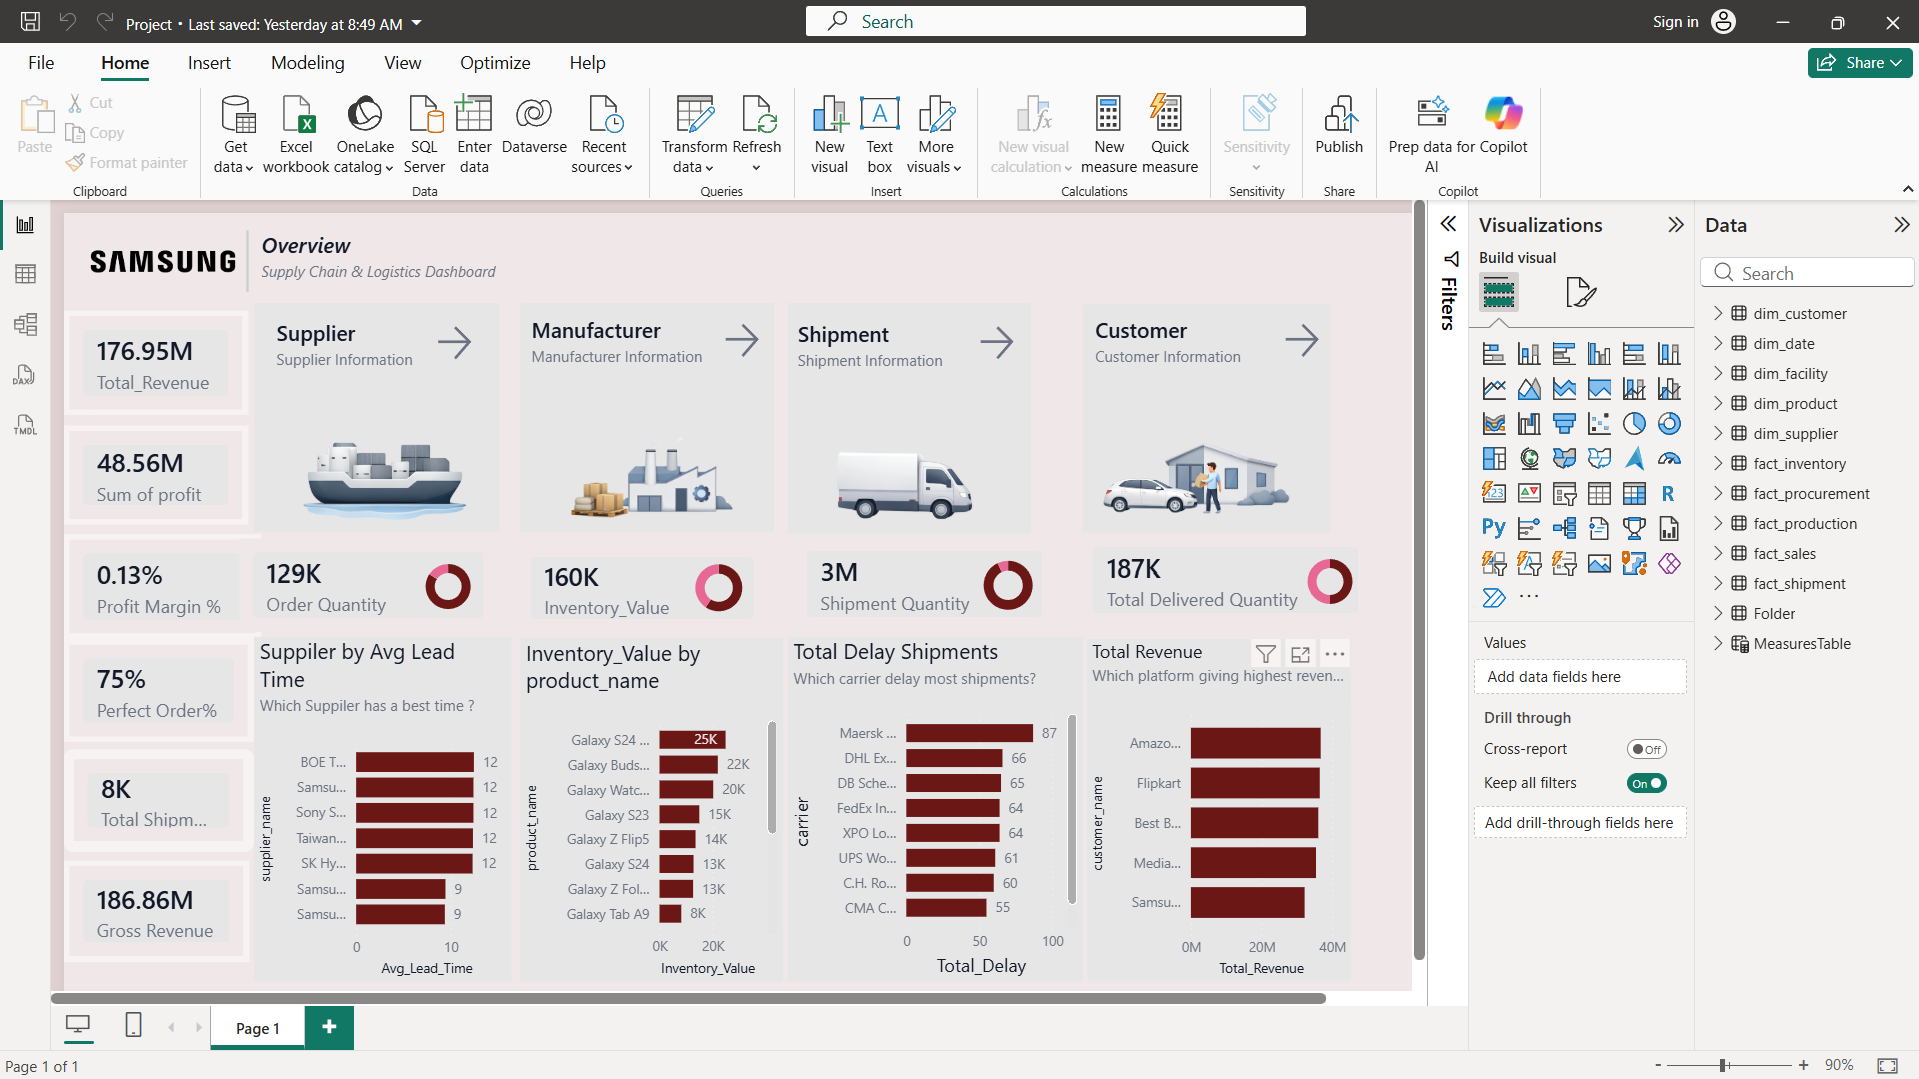

Layout of this report page (visuals, bound fields, positions):
{"tool":"powerbi","page":{"name":"Page 1","canvas":[1280,720],"ordinal":0},"visuals":[{"type":"shape","box":[168.6,80.2,218.6,203.5],"z":0},{"type":"shape","box":[643,80.2,216.3,204.7],"z":1000},{"type":"shape","box":[905.8,81.4,219.8,203.5],"z":2000},{"type":"shape","box":[405.6,80,225.6,203.3],"z":3000},{"type":"image","box":[415.1,180.2,203.5,103.5],"z":4000},{"type":"image","box":[196.5,180.2,169.8,100],"z":5000},{"type":"image","box":[643,193,203.5,87.2],"z":6000},{"type":"image","box":[916.3,168.6,188.4,129.1],"z":7000},{"type":"actionButton","box":[326.7,95.3,41.2,39.8],"z":8000},{"type":"actionButton","box":[582.2,93.3,49.4,39.8],"z":9000},{"type":"actionButton","box":[809.3,95.3,59.3,39.5],"z":10000},{"type":"actionButton","box":[1080.2,93,49.4,39.8],"z":11000},{"type":"shape","title":"Supplier ","box":[188.4,93,158.1,54.7],"z":12000},{"type":"shape","title":"Manufacturer ","box":[415.1,90.7,167.4,57],"z":13000},{"type":"shape","title":"Shipment ","box":[652.3,94.2,176.7,53.5],"z":14000},{"type":"shape","title":"Customer","box":[916.3,90.7,152.3,69.8],"z":15000},{"type":"shape","title":"Overview","box":[175.6,15.1,211.6,54.7],"z":16000},{"type":"shape","box":[130.2,15.1,66.3,54.7],"z":17000},{"type":"image","box":[12.8,15.1,143,54.7],"z":18000},{"type":"cardVisual","fields":{"Data":["MeasuresTable.Total_Revenue"]},"box":[0,86.7,164,93],"z":19000},{"type":"cardVisual","fields":{"Data":["MeasuresTable.Profit Margin %"]},"box":[0,285.6,175.6,93.3],"z":20000},{"type":"cardVisual","fields":{"Data":["Sum(fact_sales.profit)"]},"box":[0,188.9,164,88.4],"z":21000},{"type":"shape","box":[168.6,297.7,205.8,64],"z":22000},{"type":"shape","box":[409.3,295.3,205.8,64],"z":23000},{"type":"shape","box":[653.5,296.5,205.8,64],"z":24000},{"type":"shape","box":[923.3,296.5,205.8,64],"z":25000},{"type":"cardVisual","fields":{"Data":["Sum(fact_procurement.order_quantity)"]},"box":[151.1,284.4,239.5,93],"z":26000},{"type":"clusteredBarChart","title":"Suppiler by Avg Lead Time","fields":{"Y":["MeasuresTable.Avg_Lead_Time"],"Category":["dim_supplier.supplier_name"]},"box":[168.9,376.7,228.9,306.7],"z":27000},{"type":"clusteredBarChart","fields":{"Y":["MeasuresTable.Inventory_Value"],"Category":["dim_product.product_name"]},"box":[405.6,377.8,233.3,305.6],"z":28000},{"type":"clusteredBarChart","title":"Total Delay Shipments","fields":{"Y":["MeasuresTable.Total_Delay"],"Category":["fact_shipment.carrier"]},"box":[643.3,376.7,262.2,306.7],"z":29000},{"type":"clusteredBarChart","title":"Total Revenue","fields":{"Category":["dim_customer.customer_name"],"Y":["MeasuresTable.Total_Revenue"]},"box":[908.9,377.8,235.6,305.6],"z":30000},{"type":"cardVisual","fields":{"Data":["MeasuresTable.Perfect_Order %"]},"box":[0,378.9,168.9,91.1],"z":31000},{"type":"cardVisual","fields":{"Data":["MeasuresTable.Total_Shipment"]},"box":[0,476.7,168.9,91.1],"z":32000},{"type":"cardVisual","fields":{"Data":["Sum(fact_sales.gross_revenue)"]},"box":[0,575.6,164.4,90],"z":33000},{"type":"cardVisual","fields":{"Data":["MeasuresTable.Inventory_Value"]},"box":[397.7,288.4,233.7,89.5],"z":34000},{"type":"cardVisual","fields":{"Data":["Sum(fact_shipment.quantity)"]},"box":[643.3,283.3,243.3,93.3],"z":35000},{"type":"cardVisual","fields":{"Data":["MeasuresTable.Total_Sales_Quantity"]},"box":[897.8,280,270,93.3],"z":36000},{"type":"donutChart","fields":{"Y":["Sum(fact_procurement.order_quantity)","MeasuresTable.Safety_Stock"]},"box":[545.6,302.2,73.3,62.2],"z":37000},{"type":"donutChart","fields":{"Y":["MeasuresTable.Total_Shipment","MeasuresTable.Total_Delay"]},"box":[804.4,298.9,70,64.4],"z":38000},{"type":"donutChart","fields":{"Y":["MeasuresTable.Total_Sales_Quantity","MeasuresTable.Total_QTY_Delay"]},"box":[1095.6,297.8,60,60],"z":39000},{"type":"donutChart","fields":{"Y":["Sum(fact_procurement.order_quantity)","MeasuresTable.Defect_Rate"]},"box":[308.9,302.2,65.6,60],"z":40000}]}

Visuals, with their boxes on the page's 1280x720 design canvas (x1, y1, x2, y2). These are canvas units, not pixel positions in the 1919x1079 screenshot, which may show the page scaled, cropped or inside an application window:
shape: 169:80:387:284
shape: 643:80:859:285
shape: 906:81:1126:285
shape: 406:80:631:283
image: 415:180:619:284
image: 196:180:366:280
image: 643:193:846:280
image: 916:169:1105:298
actionButton: 327:95:368:135
actionButton: 582:93:632:133
actionButton: 809:95:869:135
actionButton: 1080:93:1130:133
"Supplier " shape: 188:93:346:148
"Manufacturer " shape: 415:91:582:148
"Shipment " shape: 652:94:829:148
"Customer" shape: 916:91:1069:160
"Overview" shape: 176:15:387:70
shape: 130:15:196:70
image: 13:15:156:70
cardVisual - MeasuresTable.Total_Revenue: 0:87:164:180
cardVisual - MeasuresTable.Profit Margin %: 0:286:176:379
cardVisual - Sum(fact_sales.profit): 0:189:164:277
shape: 169:298:374:362
shape: 409:295:615:359
shape: 654:296:859:360
shape: 923:296:1129:360
cardVisual - Sum(fact_procurement.order_quantity): 151:284:391:377
"Suppiler by Avg Lead Time" clusteredBarChart: 169:377:398:683
clusteredBarChart - MeasuresTable.Inventory_Value x dim_product.product_name: 406:378:639:683
"Total Delay Shipments" clusteredBarChart: 643:377:906:683
"Total Revenue" clusteredBarChart: 909:378:1144:683
cardVisual - MeasuresTable.Perfect_Order %: 0:379:169:470
cardVisual - MeasuresTable.Total_Shipment: 0:477:169:568
cardVisual - Sum(fact_sales.gross_revenue): 0:576:164:666
cardVisual - MeasuresTable.Inventory_Value: 398:288:631:378
cardVisual - Sum(fact_shipment.quantity): 643:283:887:377
cardVisual - MeasuresTable.Total_Sales_Quantity: 898:280:1168:373
donutChart - Sum(fact_procurement.order_quantity) x MeasuresTable.Safety_Stock: 546:302:619:364
donutChart - MeasuresTable.Total_Shipment x MeasuresTable.Total_Delay: 804:299:874:363
donutChart - MeasuresTable.Total_Sales_Quantity x MeasuresTable.Total_QTY_Delay: 1096:298:1156:358
donutChart - Sum(fact_procurement.order_quantity) x MeasuresTable.Defect_Rate: 309:302:374:362
